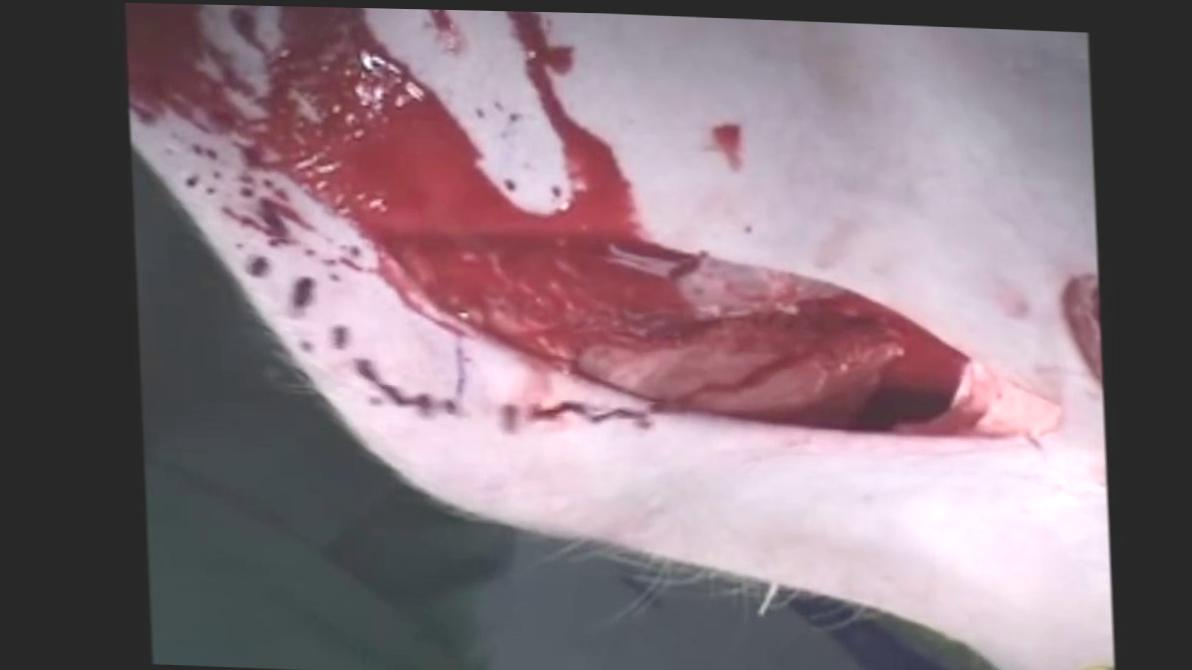Fire: (125, 2, 961, 432), (710, 121, 740, 169)
